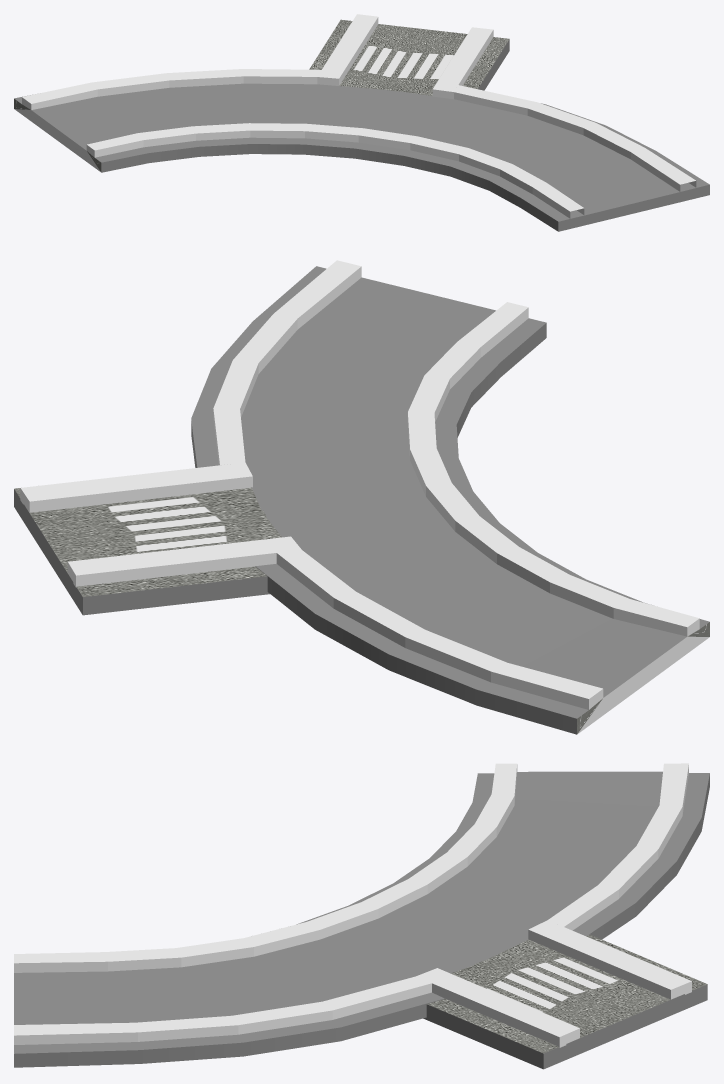
File: 90Turn1_Wide.FBX
The picture shows the model from 3 angles, top to bottom: view 1: azimuth 30°, elevation 25°; view 2: azimuth 150°, elevation 25°; view 3: azimuth 270°, elevation 25°; orthographic projection. The views are drawn at different scales.
Parts seen in each view (by area): view 1: 90Turn1; view 2: 90Turn1; view 3: 90Turn1.
Part boxes in pixels (x1=…): 90Turn1: x1=14, y1=14, x2=709, y2=231; 90Turn1: x1=14, y1=260, x2=709, y2=734; 90Turn1: x1=14, y1=763, x2=709, y2=1069.
Bounding box in the file's own units: 859 × 36.62 × 899.
